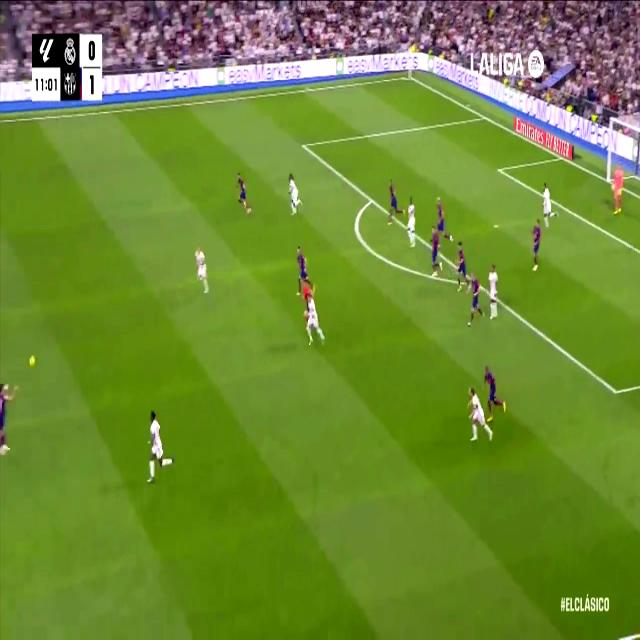bigarea_bottom_inner: (609, 374, 623, 407)
bigarea_top_inner: (300, 138, 307, 154)
bigarea_top_outter: (480, 110, 488, 124)
corner: (404, 70, 414, 82)
smallarea_top_inner: (497, 163, 502, 177)
top_arc_area_intersection: (367, 190, 376, 208)
